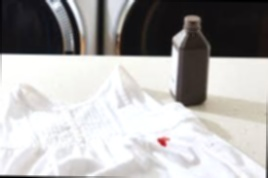blood: (156, 135, 172, 148)
